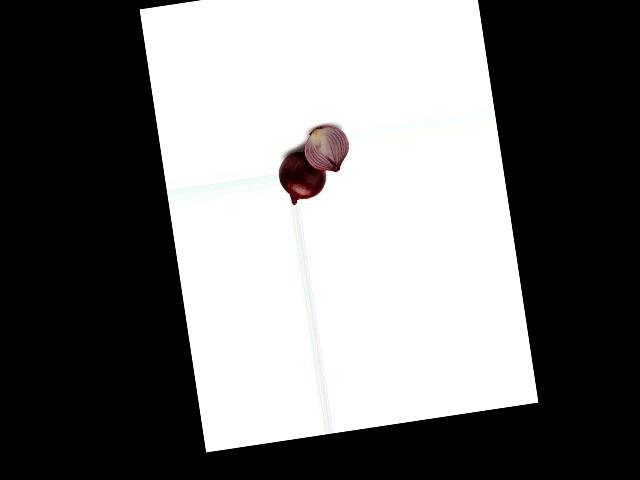onion: (304, 124, 351, 176)
